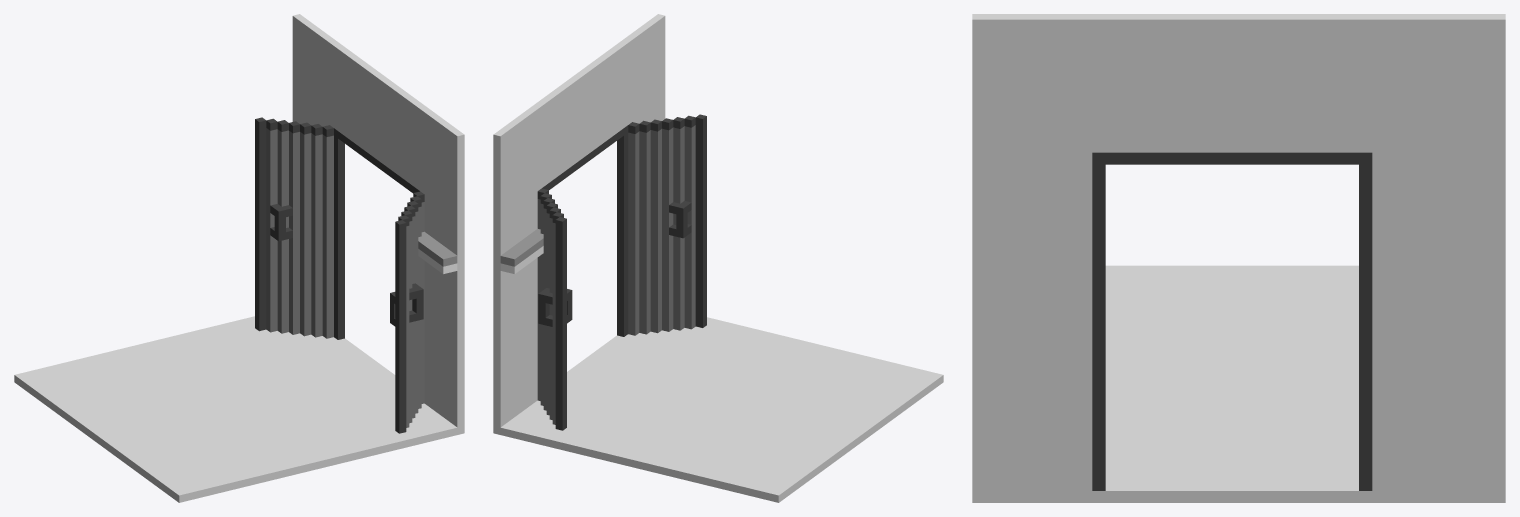
File: Wall_with_door_open_ver_2.obj
The picture shows the model from 3 angles, left to right: view 1: azimuth 30°, elevation 25°; view 2: azimuth 150°, elevation 25°; view 3: azimuth 270°, elevation 25°; orthographic projection. The views are drawn at different scales.
Bounding box in the file's own units: 4 × 4 × 4.
Materials: 1 (1 with a texture image).
